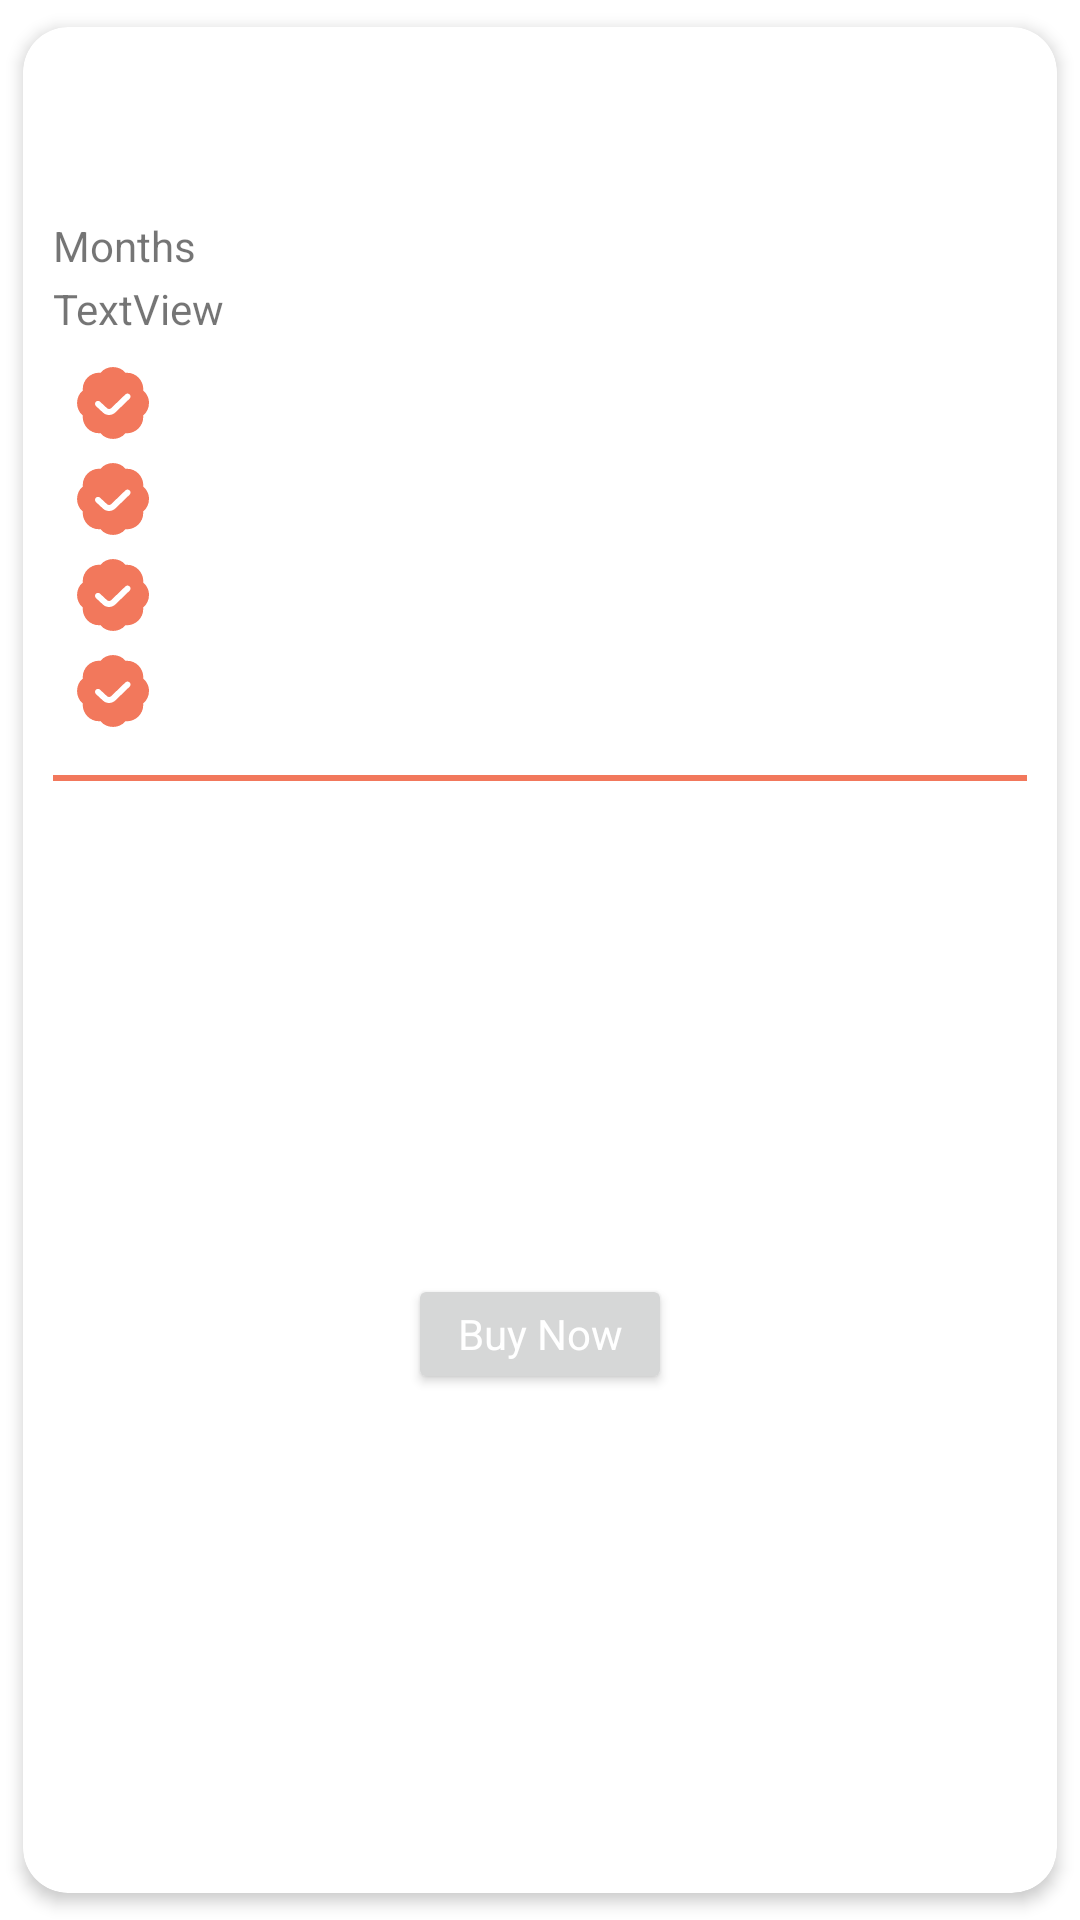

Icon bounding boxes for this 1080px x 1920px phone screenshot, format (x1, y1, x2, y2):
check: (77, 367, 149, 439), (77, 463, 149, 535), (77, 559, 149, 631), (77, 655, 149, 727)
